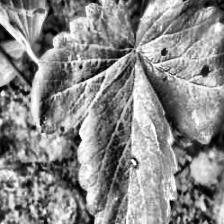Leaf Spot: (76, 52, 179, 224), (30, 0, 136, 137), (136, 0, 224, 145), (190, 145, 224, 185)
